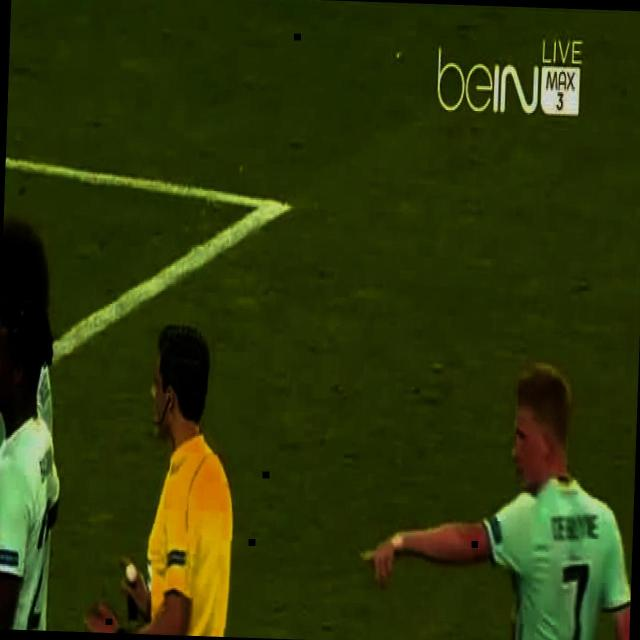player-white: (356, 356, 638, 640), (81, 319, 272, 638), (0, 216, 69, 631), (0, 300, 67, 631)
